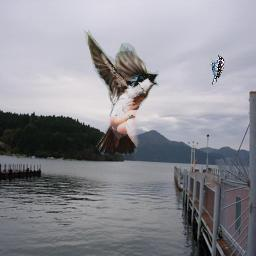Swallow: (83, 29, 159, 155)
Woodpecker: (207, 53, 226, 87)
